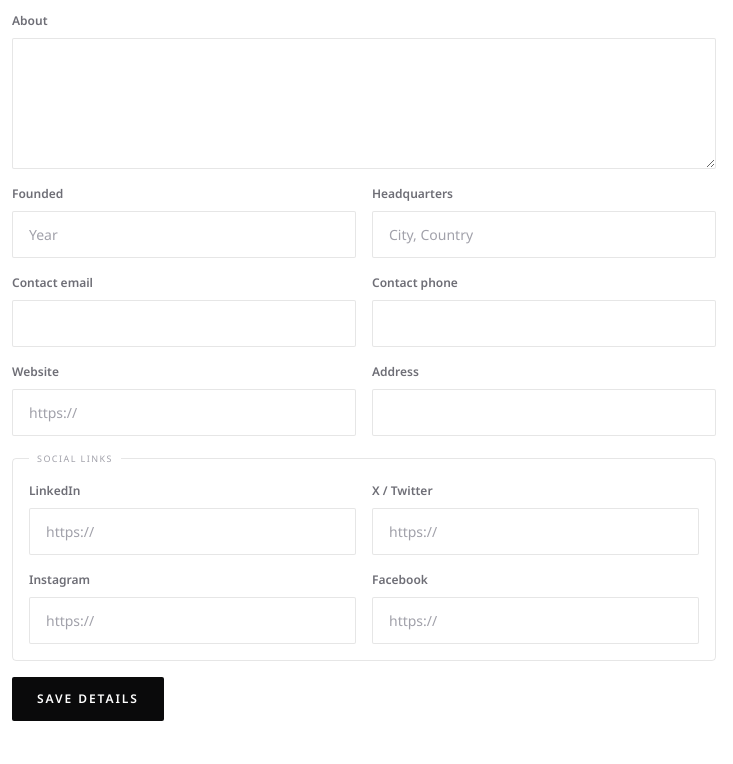
Scenario: AgencyProfileForm › blocks submission for an invalid founded year
The width and height of the screenshot is (733, 764).
Type "99" into the number field labelled "Founded". click: (184, 234)
box: top-left (12, 211), bottom-right (356, 258)
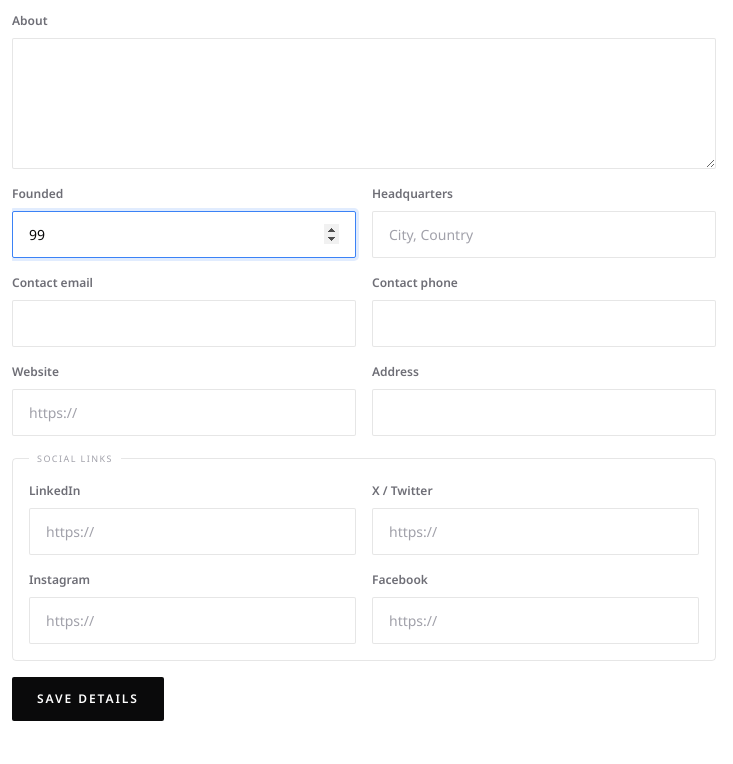
Click the button "Save details". click: click(88, 698)
box: top-left (12, 676), bottom-right (164, 720)
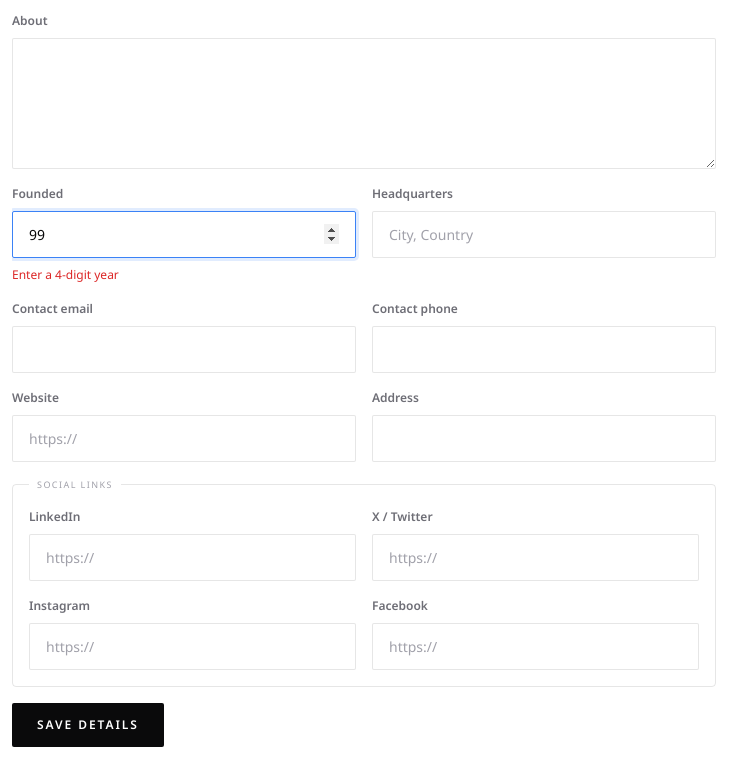
Result: the text "Enter a 4-digit year" is shown at top-left (12, 266), bottom-right (119, 283)
